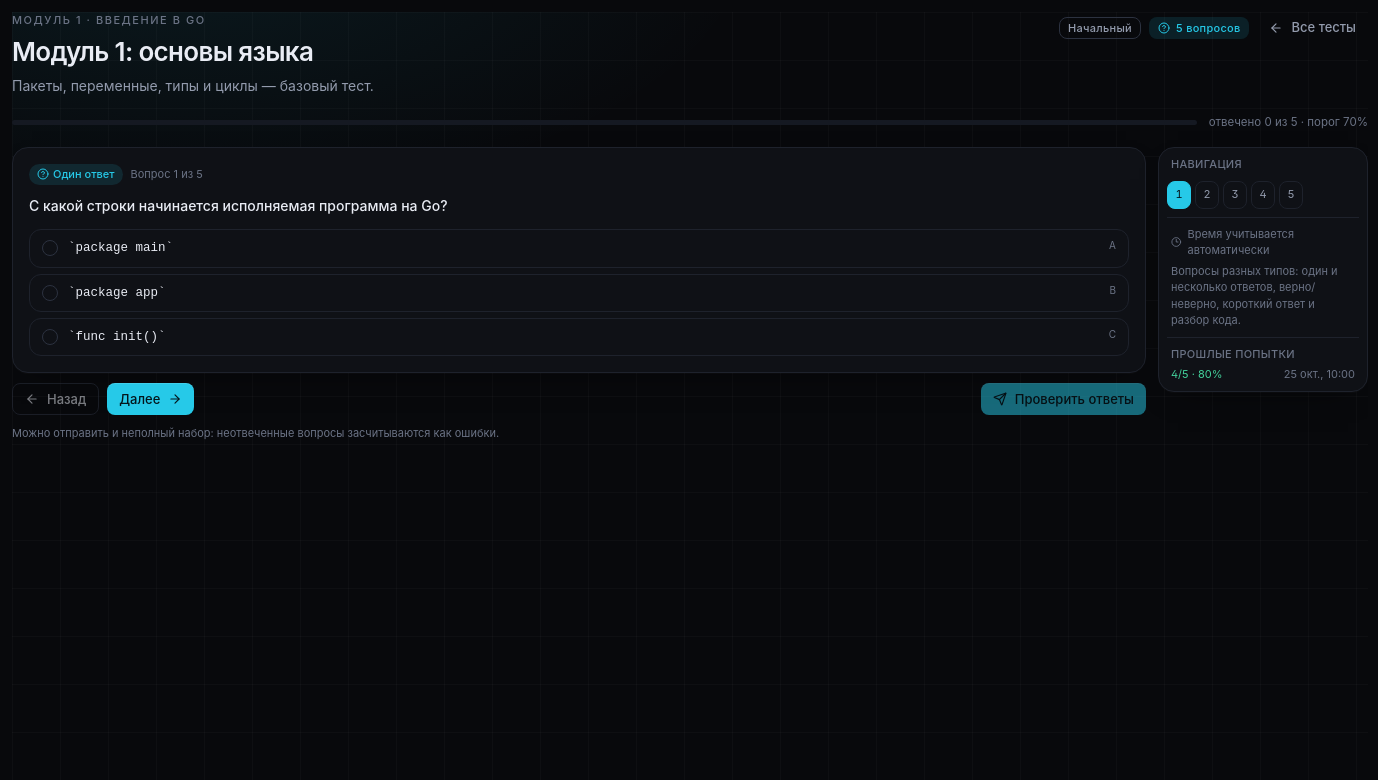
Scenario: QuizPage › показывает вопросы разных типов и навигацию
Check: the text "С какой строки начинается исполняемая программа на Go?" is shown, box 29,197 -> 448,214
Check: the text "Один ответ" is shown, box 29,164 -> 123,185
Переход по навигации к вопросу с несколькими ответами.
Click the button named "Вопрос 2". click: (1207, 195)
box: 1195,181 -> 1219,209
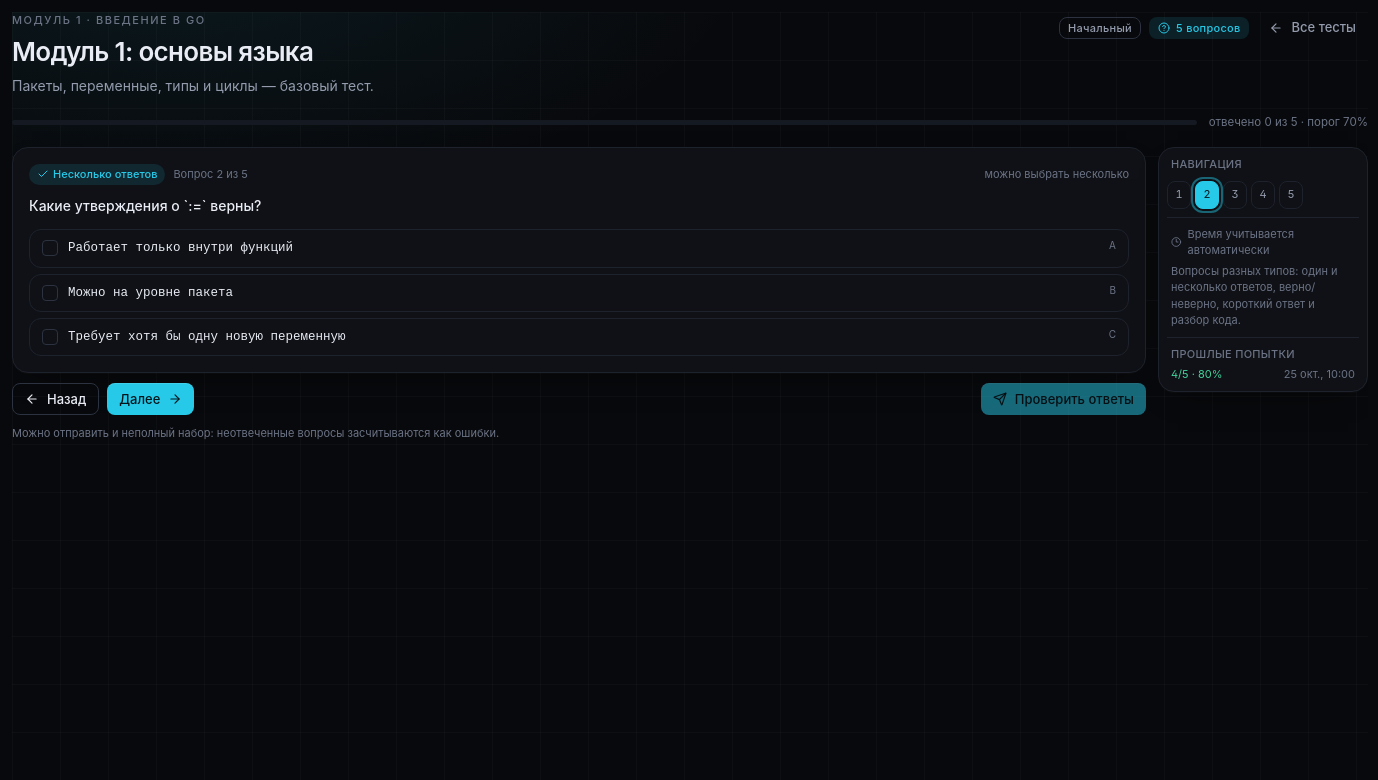
Check: the text "Несколько ответов" is shown, box 29,164 -> 165,185
